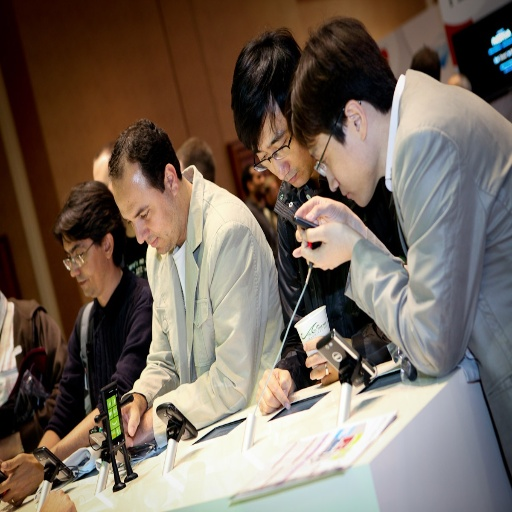hand: (291, 192, 349, 267), (298, 218, 359, 270), (0, 452, 46, 508), (302, 334, 350, 387), (258, 367, 298, 419), (119, 396, 143, 448), (39, 487, 76, 511)
